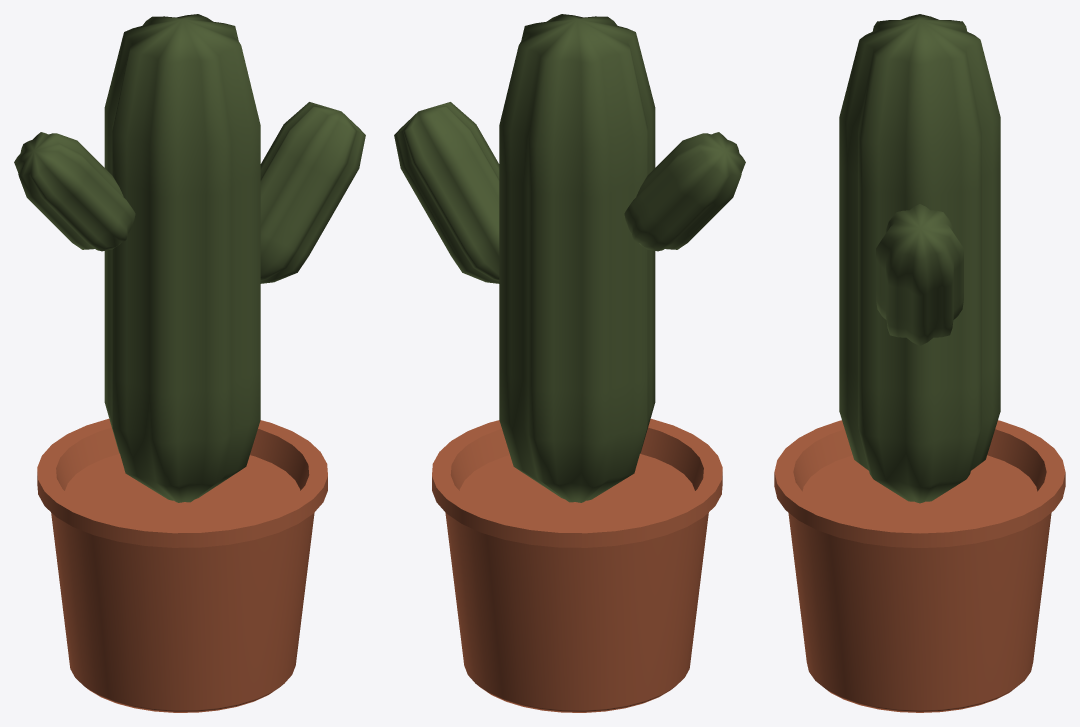
The model's file is ap_plant_cactus.glb.
The picture shows the model from 3 angles, left to right: view 1: azimuth 30°, elevation 25°; view 2: azimuth 150°, elevation 25°; view 3: azimuth 270°, elevation 25°; orthographic projection.
Parts seen in each view (by area): view 1: ap_plant_cactus; view 2: ap_plant_cactus; view 3: ap_plant_cactus.
Boxes of the visible parts, box(x1,y1,x2,y2) form: ap_plant_cactus: box(14, 14, 365, 712); ap_plant_cactus: box(394, 14, 745, 712); ap_plant_cactus: box(774, 14, 1065, 712).
Size of the model in its own units: 0.293 by 0.53 by 0.216.
